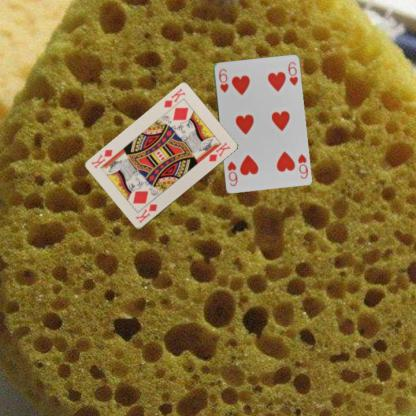6h: (295, 151, 309, 180), (216, 66, 229, 93)
Kd: (133, 201, 159, 224), (161, 86, 187, 109)
